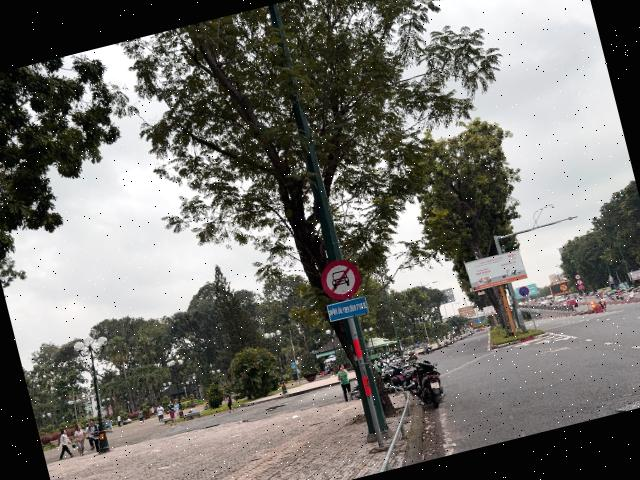cam-o-to: (317, 255, 365, 304)
